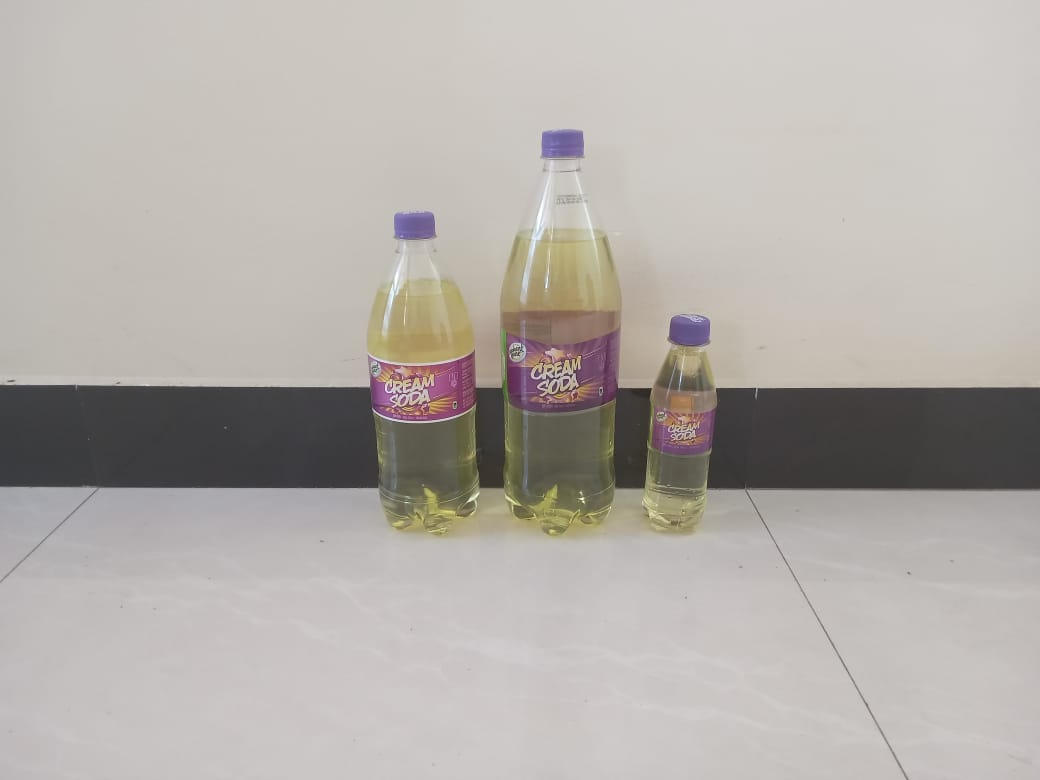L: (499, 132, 620, 532)
M: (362, 208, 483, 540)
Xs: (645, 315, 716, 534)
